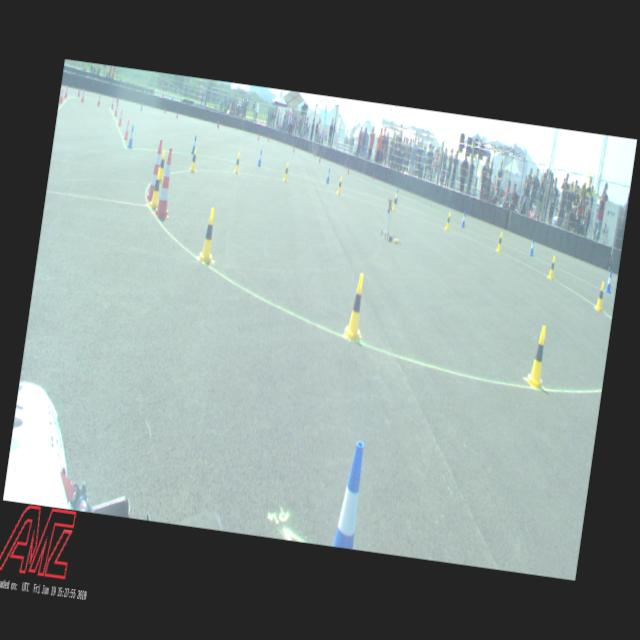blue_cone: (333, 440, 368, 550), (126, 125, 136, 149), (604, 270, 614, 294), (528, 237, 536, 257), (190, 134, 197, 154), (257, 150, 263, 167), (461, 212, 467, 228), (326, 168, 332, 184), (396, 188, 400, 204)
large_orange_cone: (154, 148, 178, 218), (146, 138, 163, 202)
orange_cone: (123, 118, 131, 140), (118, 110, 124, 126), (114, 103, 120, 116), (96, 94, 102, 106), (60, 88, 64, 104), (81, 90, 86, 102), (110, 97, 114, 109), (64, 88, 68, 99)
yellow_cone: (344, 272, 371, 340), (526, 326, 552, 390), (197, 206, 223, 264), (149, 167, 163, 208), (594, 282, 606, 310), (159, 150, 167, 182), (189, 148, 199, 172), (547, 255, 556, 280), (233, 153, 242, 175), (496, 231, 504, 252), (283, 162, 291, 182), (444, 212, 452, 230), (336, 177, 344, 194), (392, 194, 398, 212)
